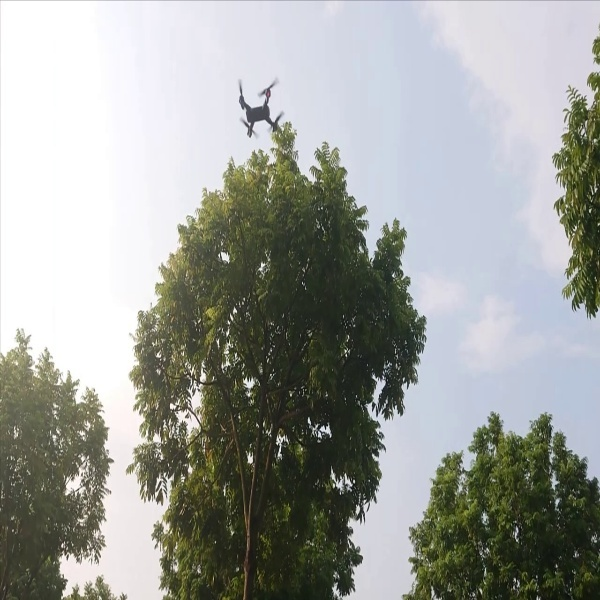drone: (229, 76, 289, 144)
